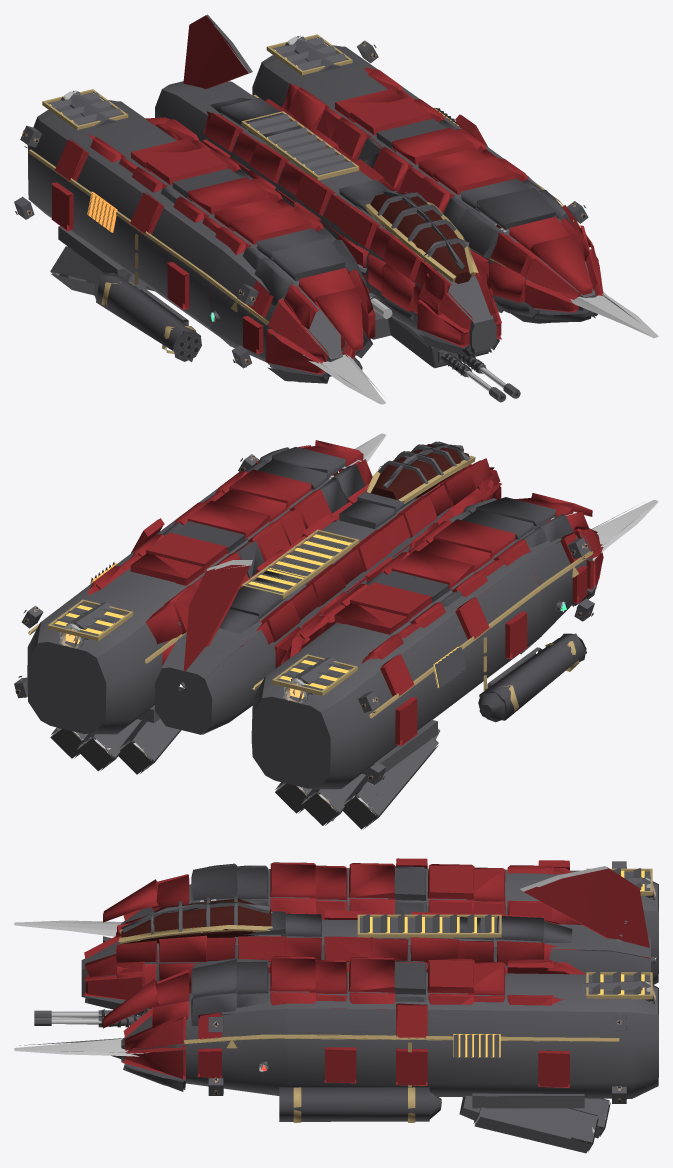
File: enemy_fighter_lod.glb
3 renders of one model, top to bottom at view 1: azimuth 30°, elevation 25°; view 2: azimuth 150°, elevation 25°; view 3: azimuth 270°, elevation 25°, orthographic. The views are drawn at different scales.
Parts seen in each view (by area): view 1: enemy_fighter; view 2: enemy_fighter; view 3: enemy_fighter.
Boxes of the visible parts, x1,y1,x2,y2 form: enemy_fighter: (14,14,658,404); enemy_fighter: (14,433,658,829); enemy_fighter: (14,858,658,1153).
Bounding box in the file's own units: 6.31 × 3.38 × 8.97.
